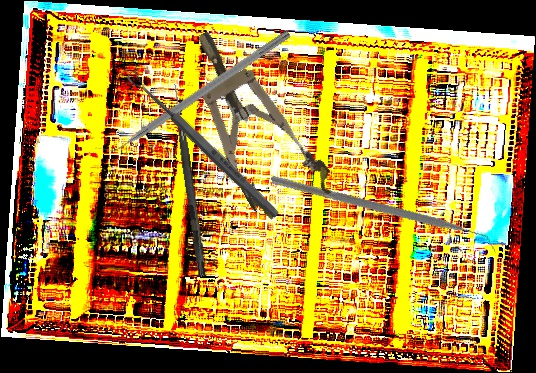Chopper: (270, 119, 497, 313), (93, 19, 292, 164)
Hook Surgical: (168, 82, 209, 278)
Speculum: (166, 12, 339, 230)
Surgical Spoon: (125, 68, 282, 221)
